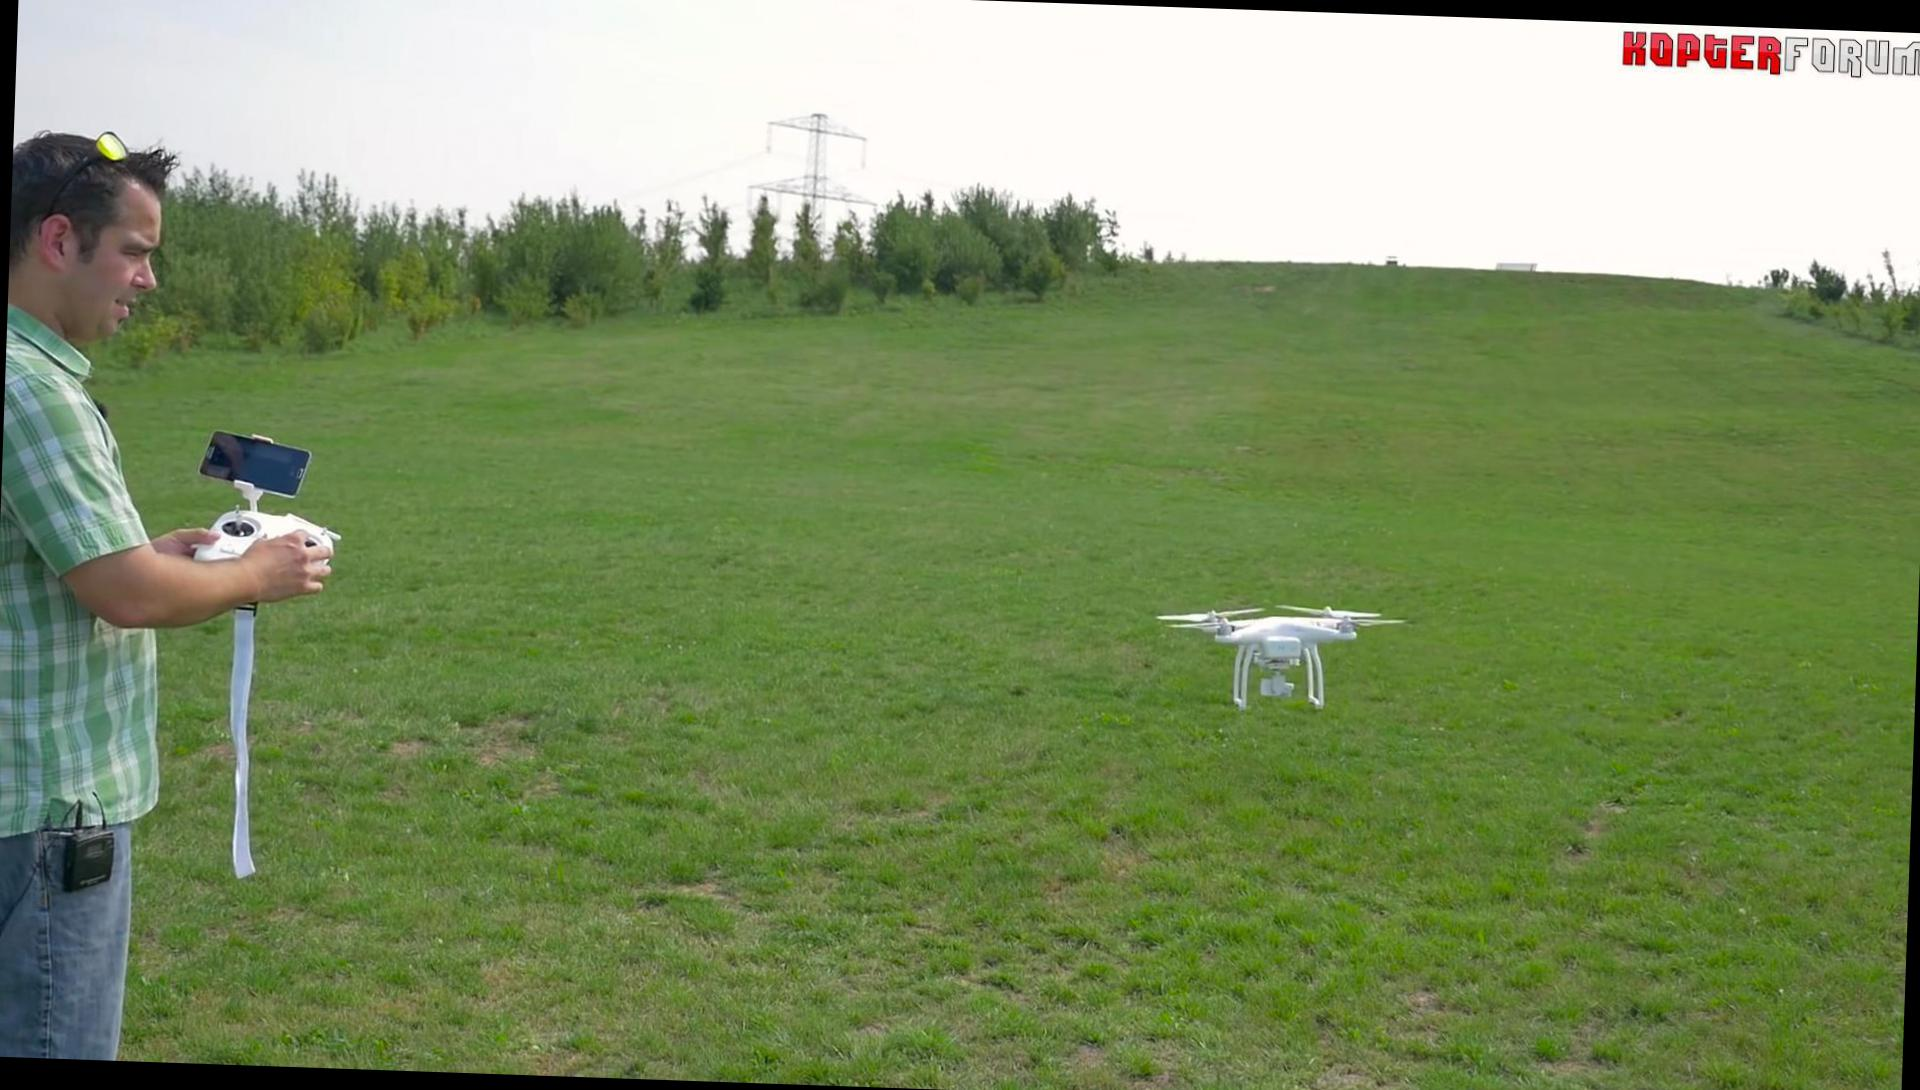drone: (1150, 596, 1411, 717)
